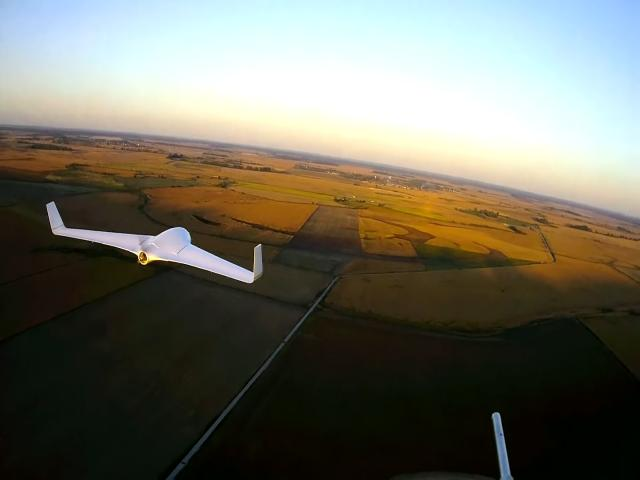plane: (46, 201, 263, 286)
